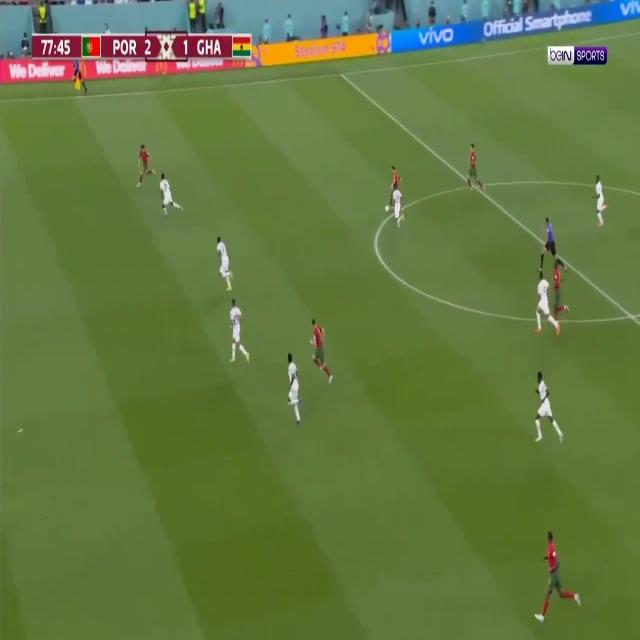ball: (385, 204, 390, 214)
team1: (534, 530, 578, 620), (311, 312, 334, 388), (546, 258, 570, 323), (464, 142, 484, 202), (134, 143, 156, 190), (391, 162, 408, 214)
team2: (533, 365, 563, 449), (279, 347, 309, 426), (533, 267, 560, 336), (229, 292, 249, 362), (158, 173, 183, 221), (592, 172, 609, 230), (216, 233, 233, 290), (391, 188, 407, 229)
